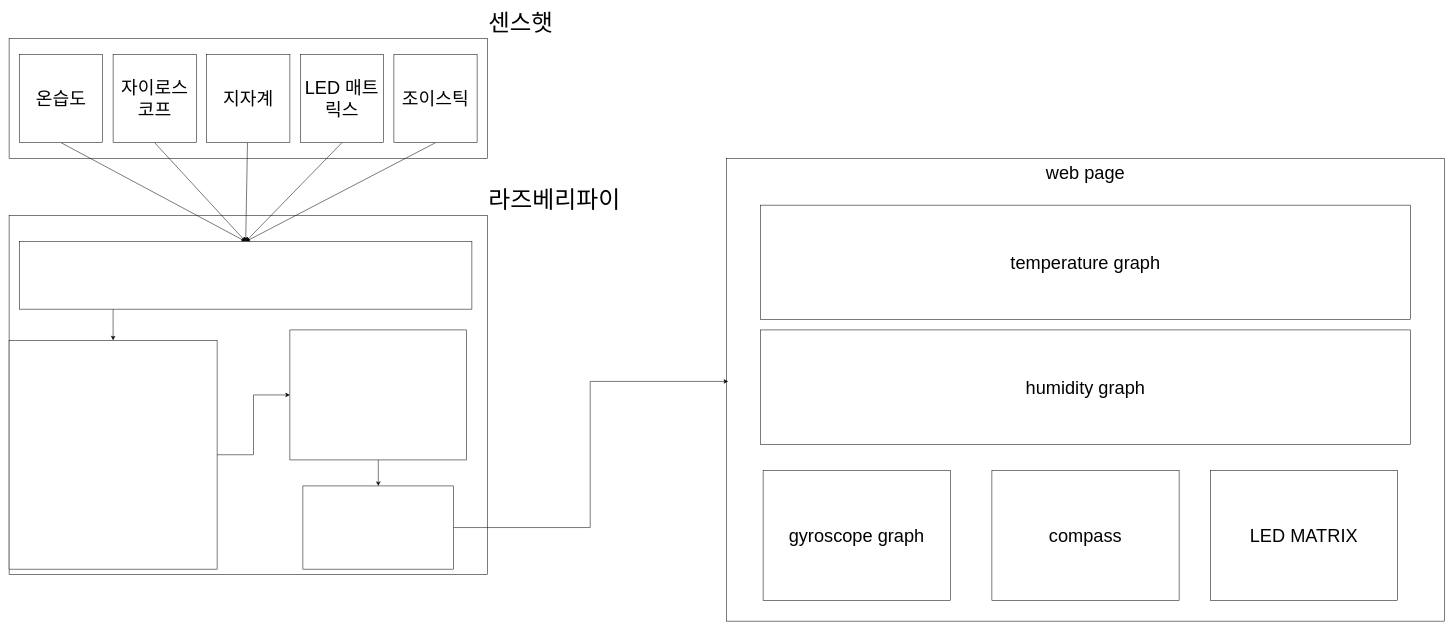
Some shapes in this 1453 by 630 pixel diagram are drawn without their labels. Each missing label, with the centre of its shape:
html: (378,527)
python flask: (378,394)
python read sense hat data and create sqlite3 db: (245,275)
sqlite3 db: (113,454)
